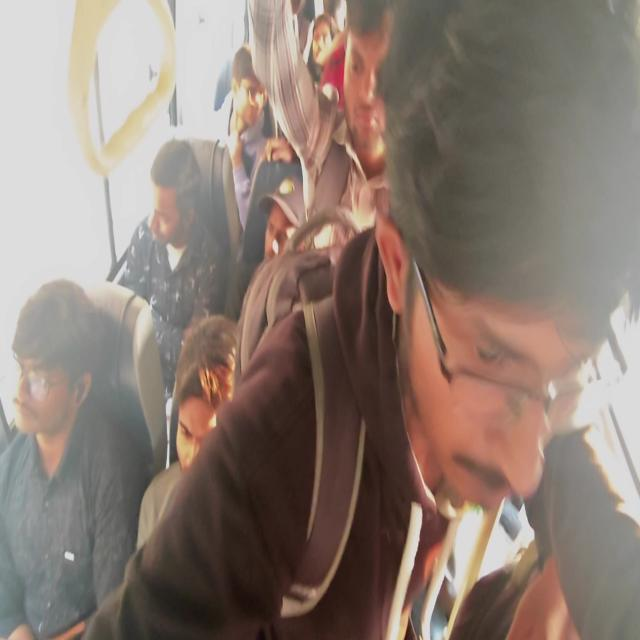person: (412, 23, 623, 556), (176, 336, 246, 486), (16, 285, 80, 433), (346, 0, 401, 146), (260, 177, 312, 294), (146, 148, 200, 250), (231, 62, 271, 141), (317, 23, 344, 76), (283, 0, 306, 53)
